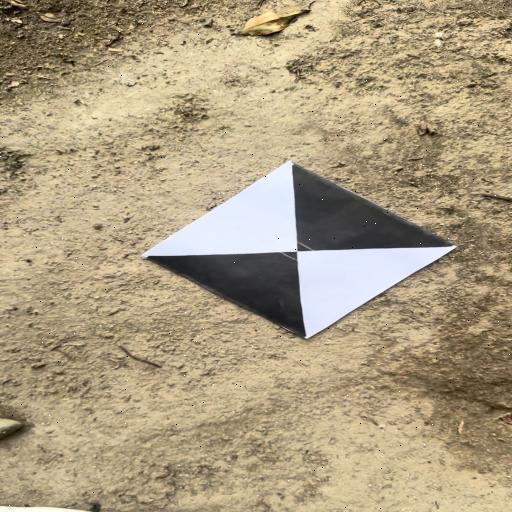target: (143, 162, 457, 337)
